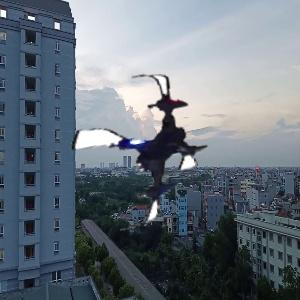drone: (60, 72, 219, 231)
